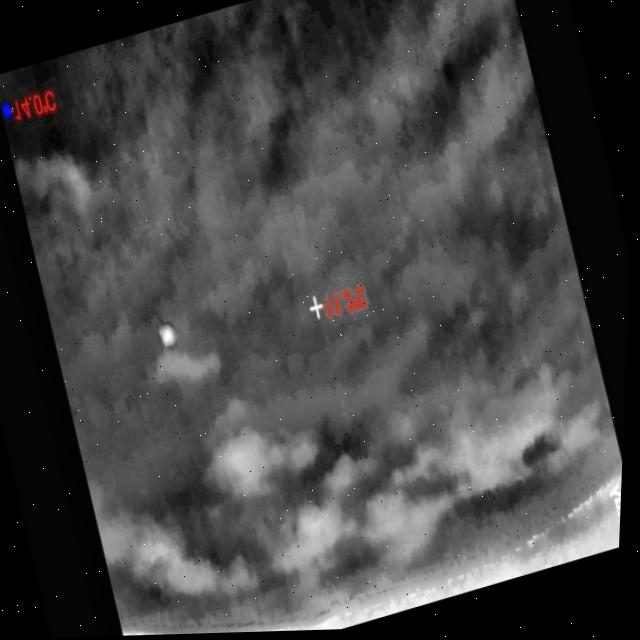drone: (156, 318, 180, 352)
